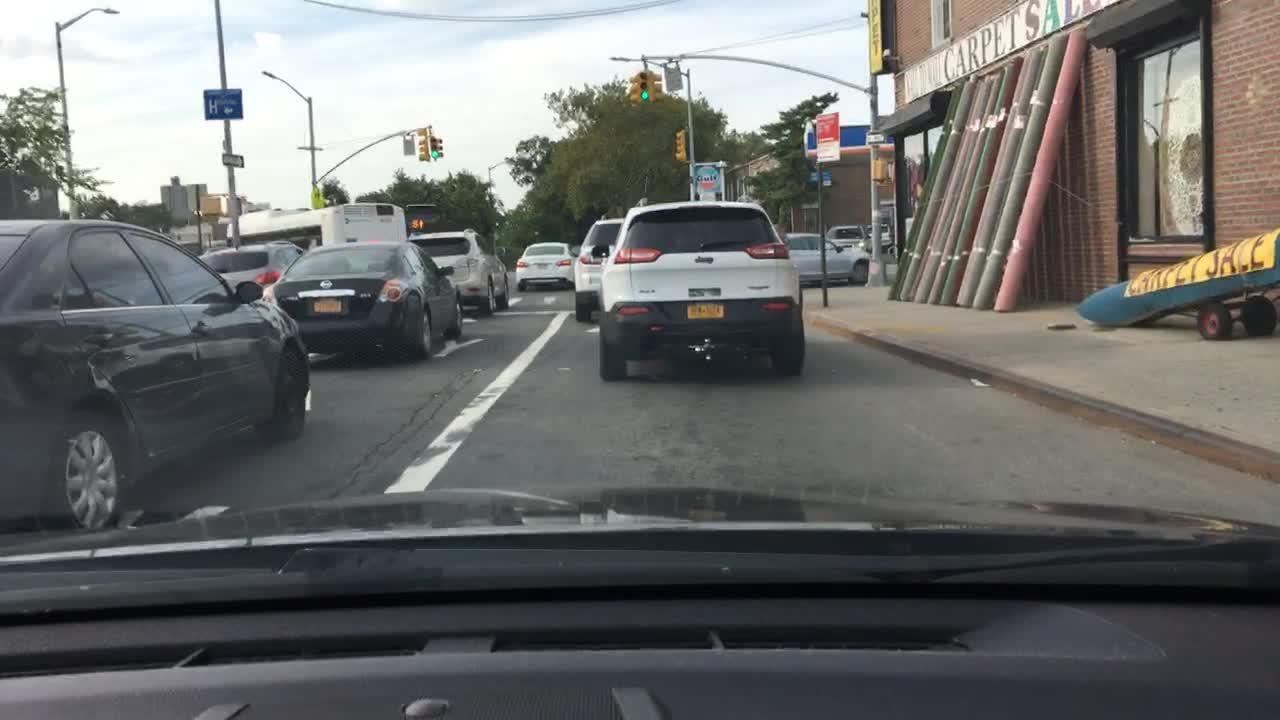jeep: (689, 252, 720, 271)
